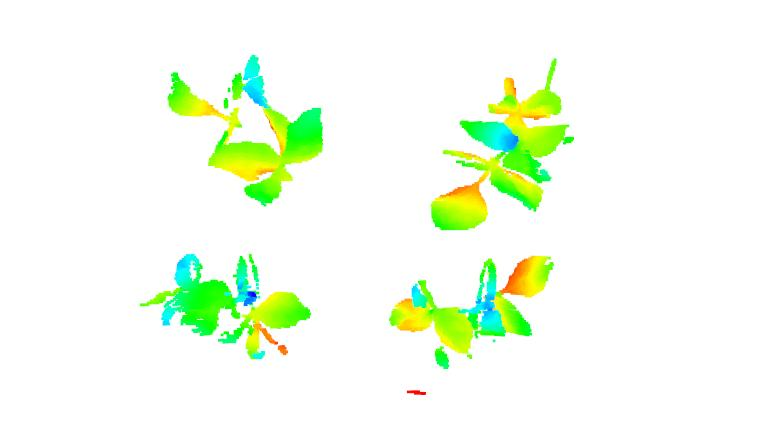mungbean: (167, 54, 327, 209), (431, 76, 575, 232), (388, 250, 567, 369), (135, 249, 313, 366)
